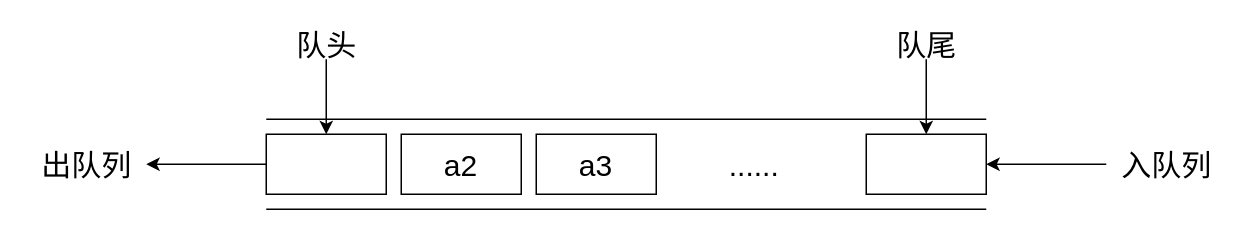
Some shapes in this 1251 by 237 pixel diagram are drawn without their labels. Here are the shapes that lost their labels. From the top down, the box of each, then its label:
(265, 133, 386, 194): a1
(865, 133, 986, 194): an
